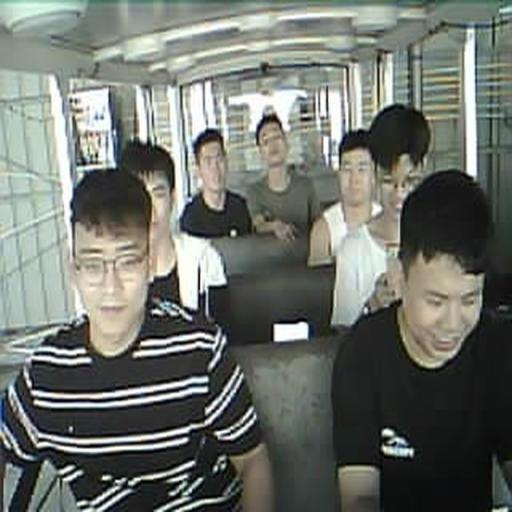persona: (0, 167, 276, 510), (330, 167, 512, 511), (119, 137, 231, 334), (332, 104, 430, 328), (308, 129, 396, 267), (242, 112, 320, 244), (178, 128, 254, 239)
